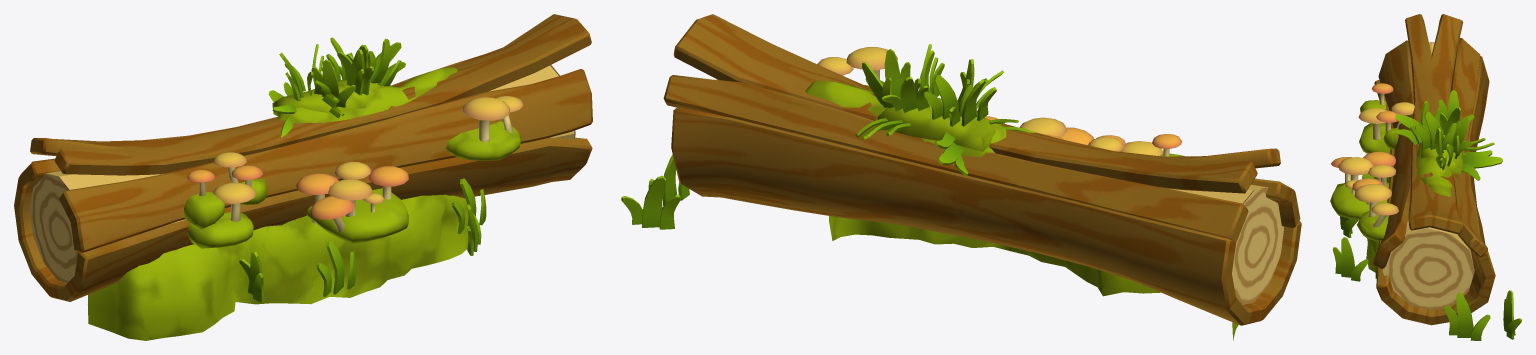
Rendered from fallen-tree.glb.
3 renders of one model, left to right at view 1: azimuth 30°, elevation 25°; view 2: azimuth 150°, elevation 25°; view 3: azimuth 270°, elevation 25°, orthographic. The views are drawn at different scales.
Visible parts, largest first — view 1: Object_7, Object_25, Object_9, Object_21, Object_27, Object_29, Object_51; view 2: Object_7, Object_9, Object_25, Object_21, Object_27, Object_29; view 3: Object_7, Object_9, Object_21, Object_25, Object_27, Object_29, Object_51.
Boxes of the visible parts, x1,y1,x2,y2 form: Object_7: [14, 14, 592, 301]; Object_25: [88, 67, 521, 340]; Object_9: [239, 37, 486, 302]; Object_21: [29, 65, 575, 282]; Object_27: [213, 96, 523, 203]; Object_29: [187, 165, 408, 219]; Object_51: [199, 115, 512, 232]; Object_7: [663, 14, 1301, 325]; Object_9: [621, 44, 1035, 229]; Object_25: [805, 80, 1238, 340]; Object_21: [716, 79, 1284, 304]; Object_27: [817, 47, 1163, 156]; Object_29: [984, 116, 1182, 148]; Object_7: [1372, 14, 1495, 325]; Object_9: [1332, 90, 1521, 340]; Object_21: [1382, 42, 1474, 310]; Object_25: [1330, 100, 1463, 272]; Object_27: [1338, 102, 1414, 215]; Object_29: [1331, 83, 1397, 190]; Object_51: [1345, 93, 1406, 227].
Size of the model in its own units: 307 by 115 by 120.
7 materials, 7 textured.
